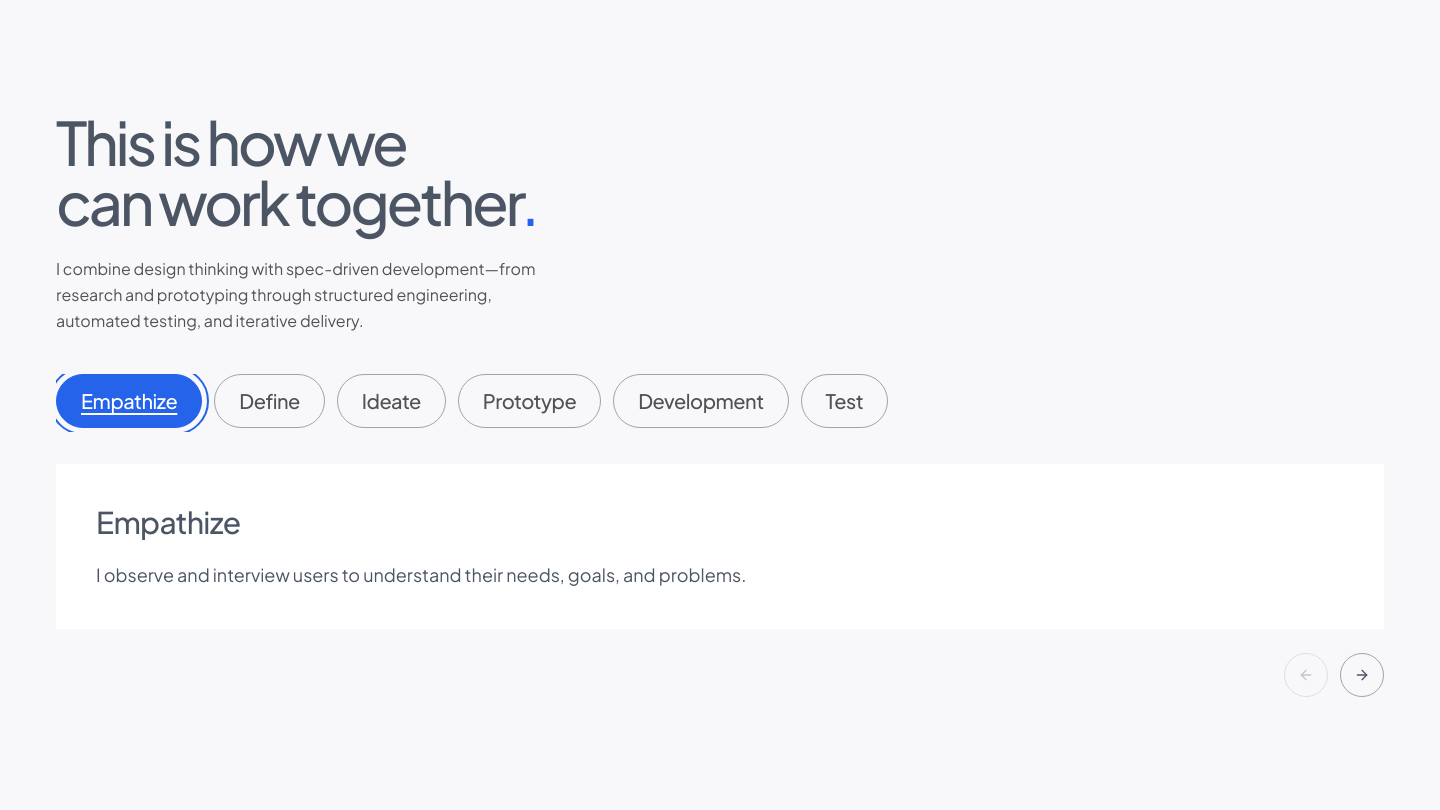
Test case: WorkProcessSection › supports keyboard navigation (ArrowRight, ArrowLeft, End, Home) and prev/next buttons across 6 steps
Press ArrowRight in the tab "Empathize", box [56,374,202,428]
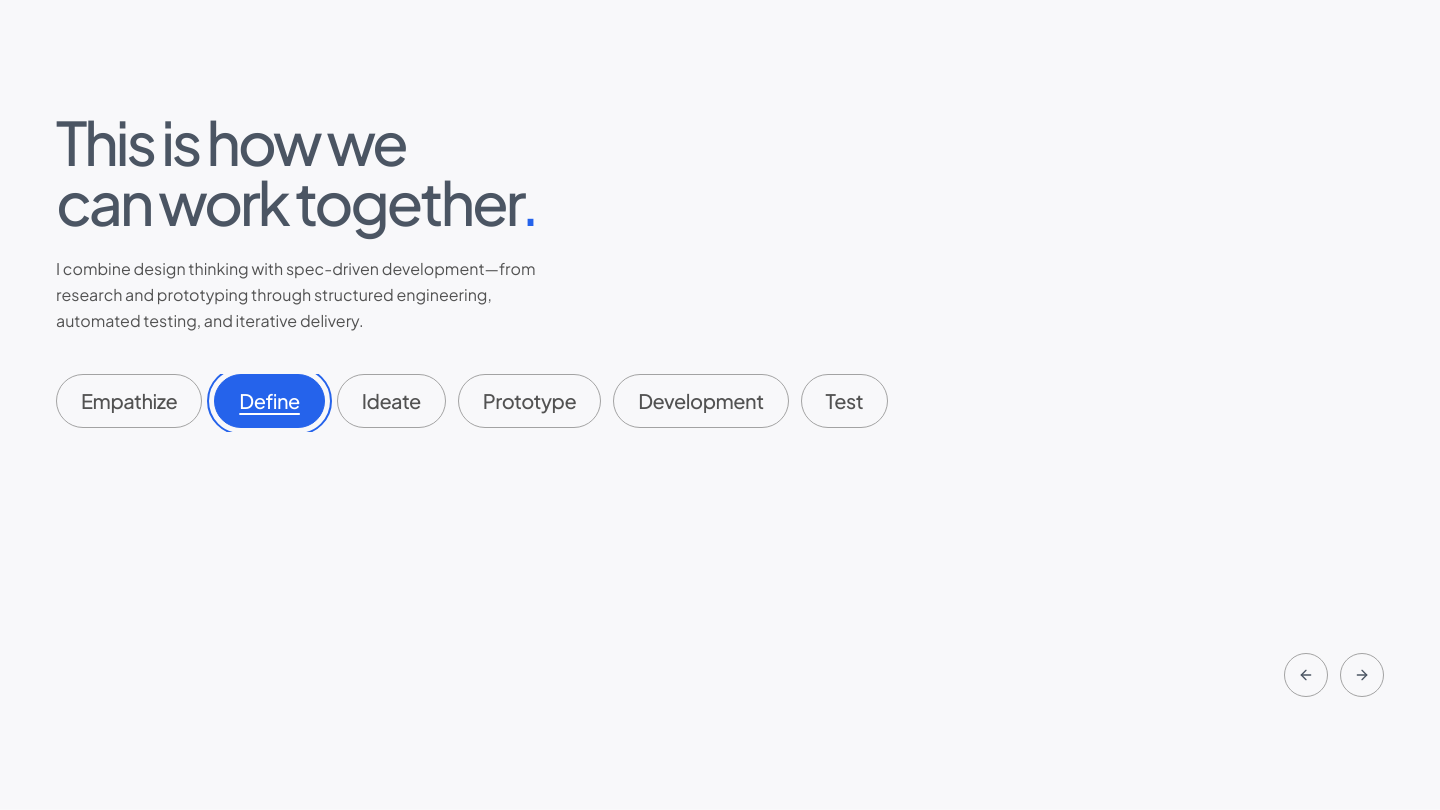
Check: the tab "Define" is selected
Press End in the tab "Define", box [214,374,325,428]
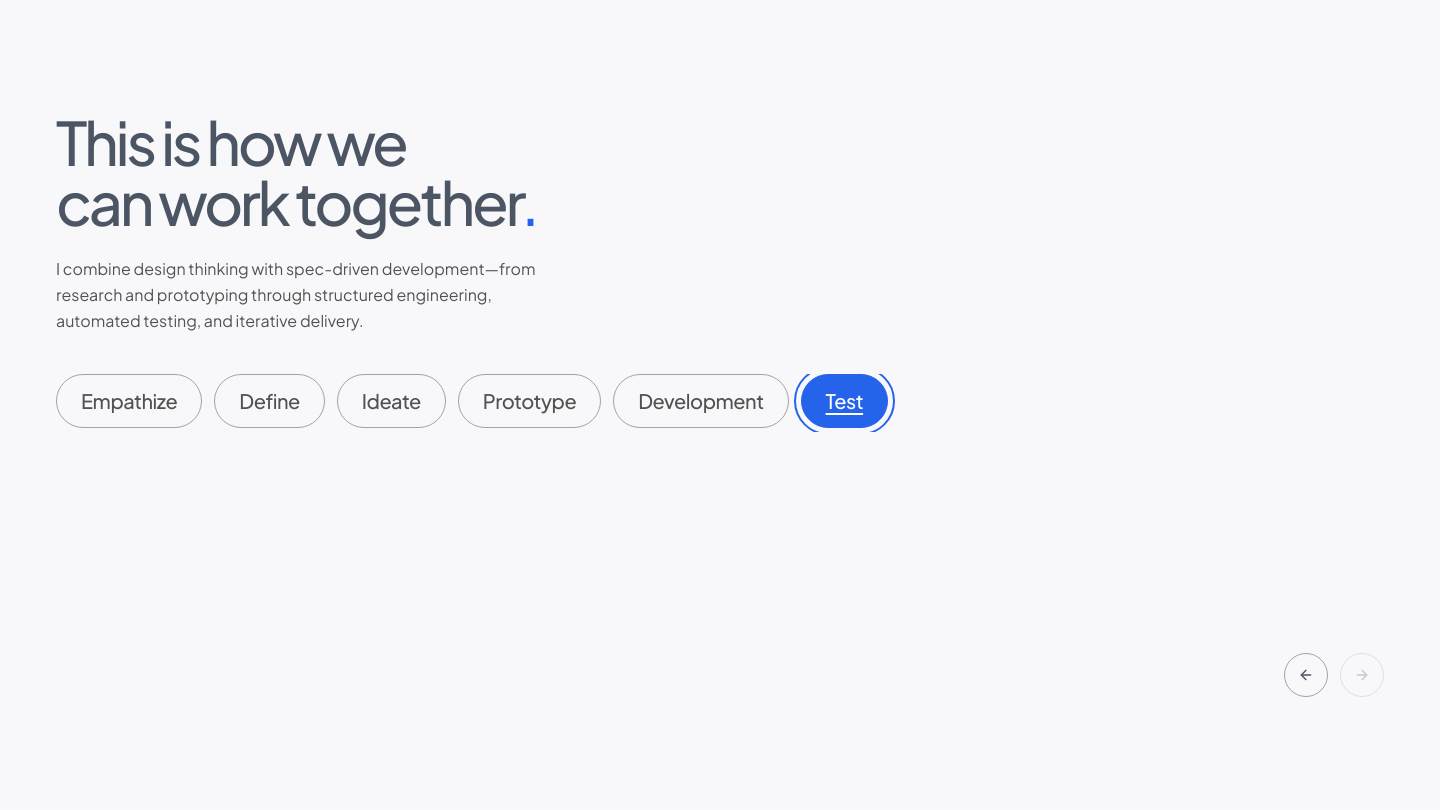
Check: the tab "Test" is selected
Press Home in the tab "Test", box [801,374,888,428]
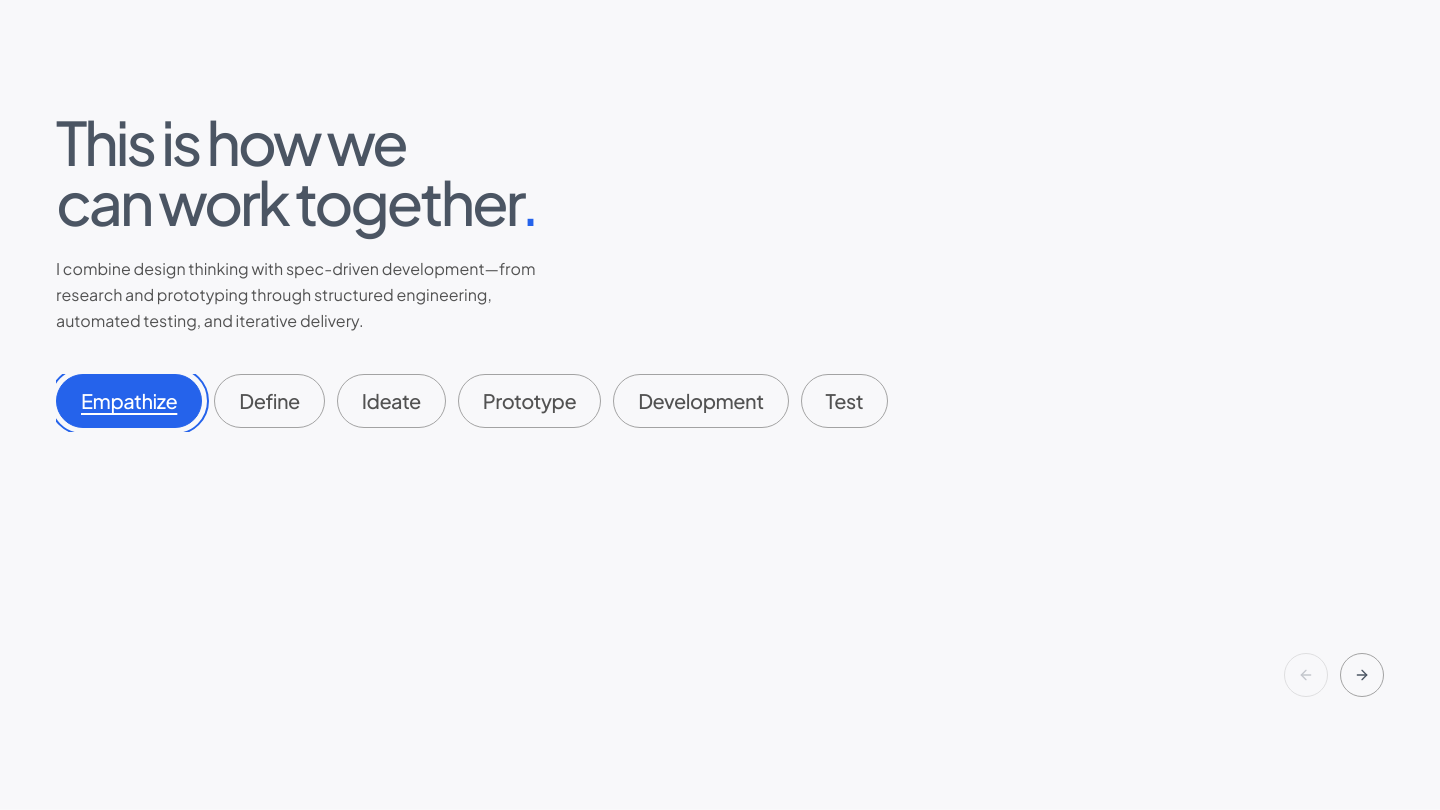
Check: the tab "Empathize" is selected
Press ArrowLeft in the tab "Empathize", box [56,374,202,428]
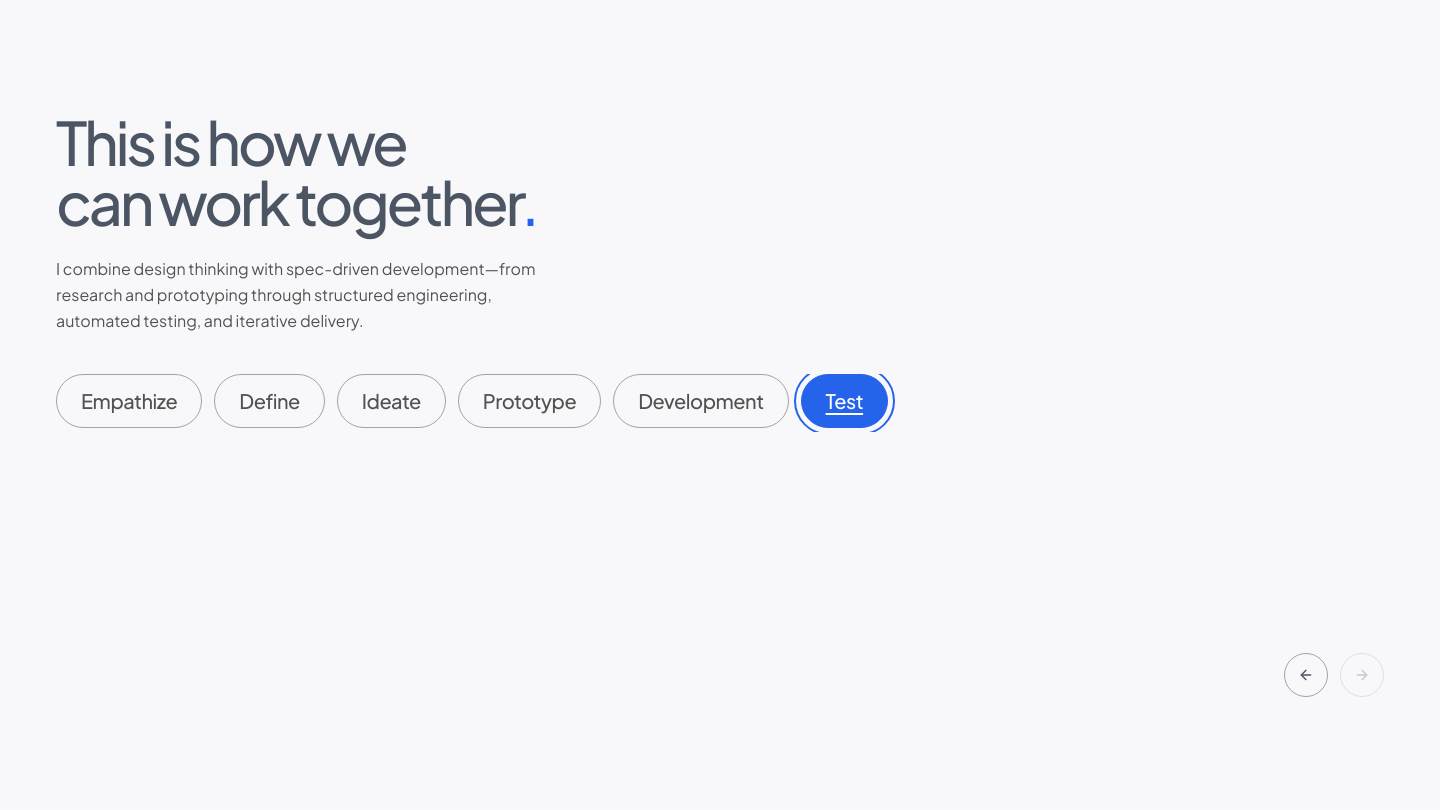
Check: the button named "Next process step" is disabled, box [1340,653,1384,697]
Click the button named "Previous process step". click: click(1306, 675)
box: [1284,653,1328,697]
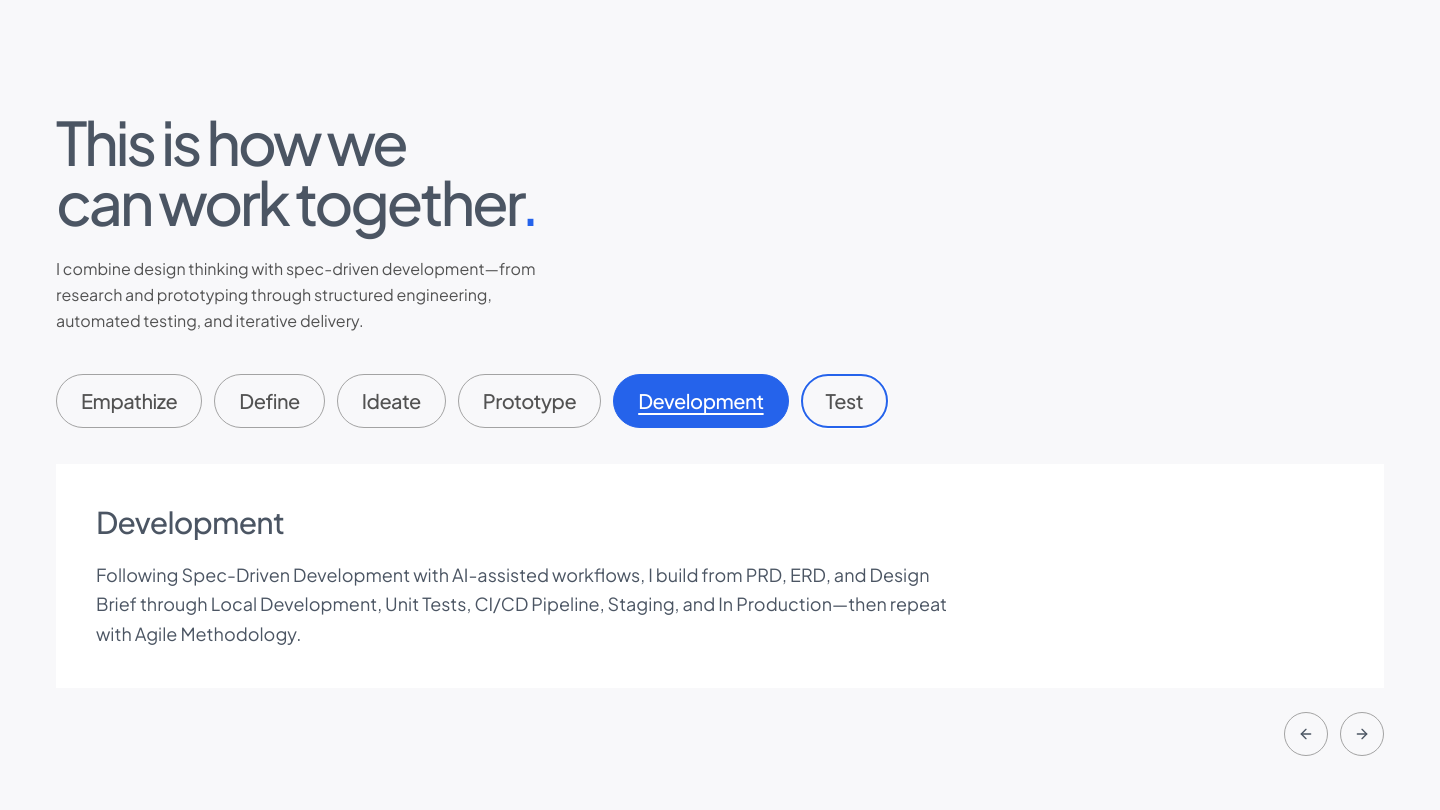
Check: the panel shows "Development", box [96,503,284,541]
Check: the panel shows "Spec-Driven Development", box [96,563,947,644]
Check: the panel shows "PRD", box [96,563,947,644]
